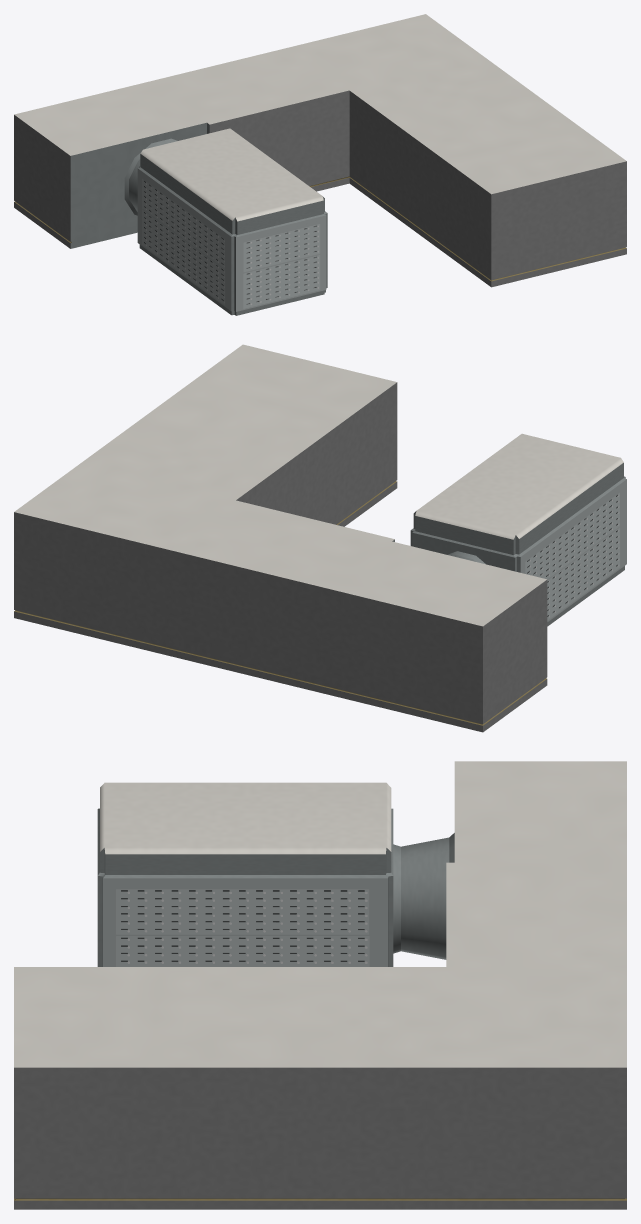
The model's file is Satage1.fbx.
The picture shows the model from 3 angles, top to bottom: view 1: azimuth 30°, elevation 25°; view 2: azimuth 150°, elevation 25°; view 3: azimuth 270°, elevation 25°; orthographic projection. The views are drawn at different scales.
Visible parts, largest first — view 1: pPlane3; view 2: pPlane3; view 3: pPlane3.
Part boxes in pixels (x1,y1,x2,y2): pPlane3: (14,14,626,315); pPlane3: (14,344,626,732); pPlane3: (14,761,626,1209).
Size of the model in its own units: 26.14 by 6.28 by 22.1.
1 material, 1 textured.
